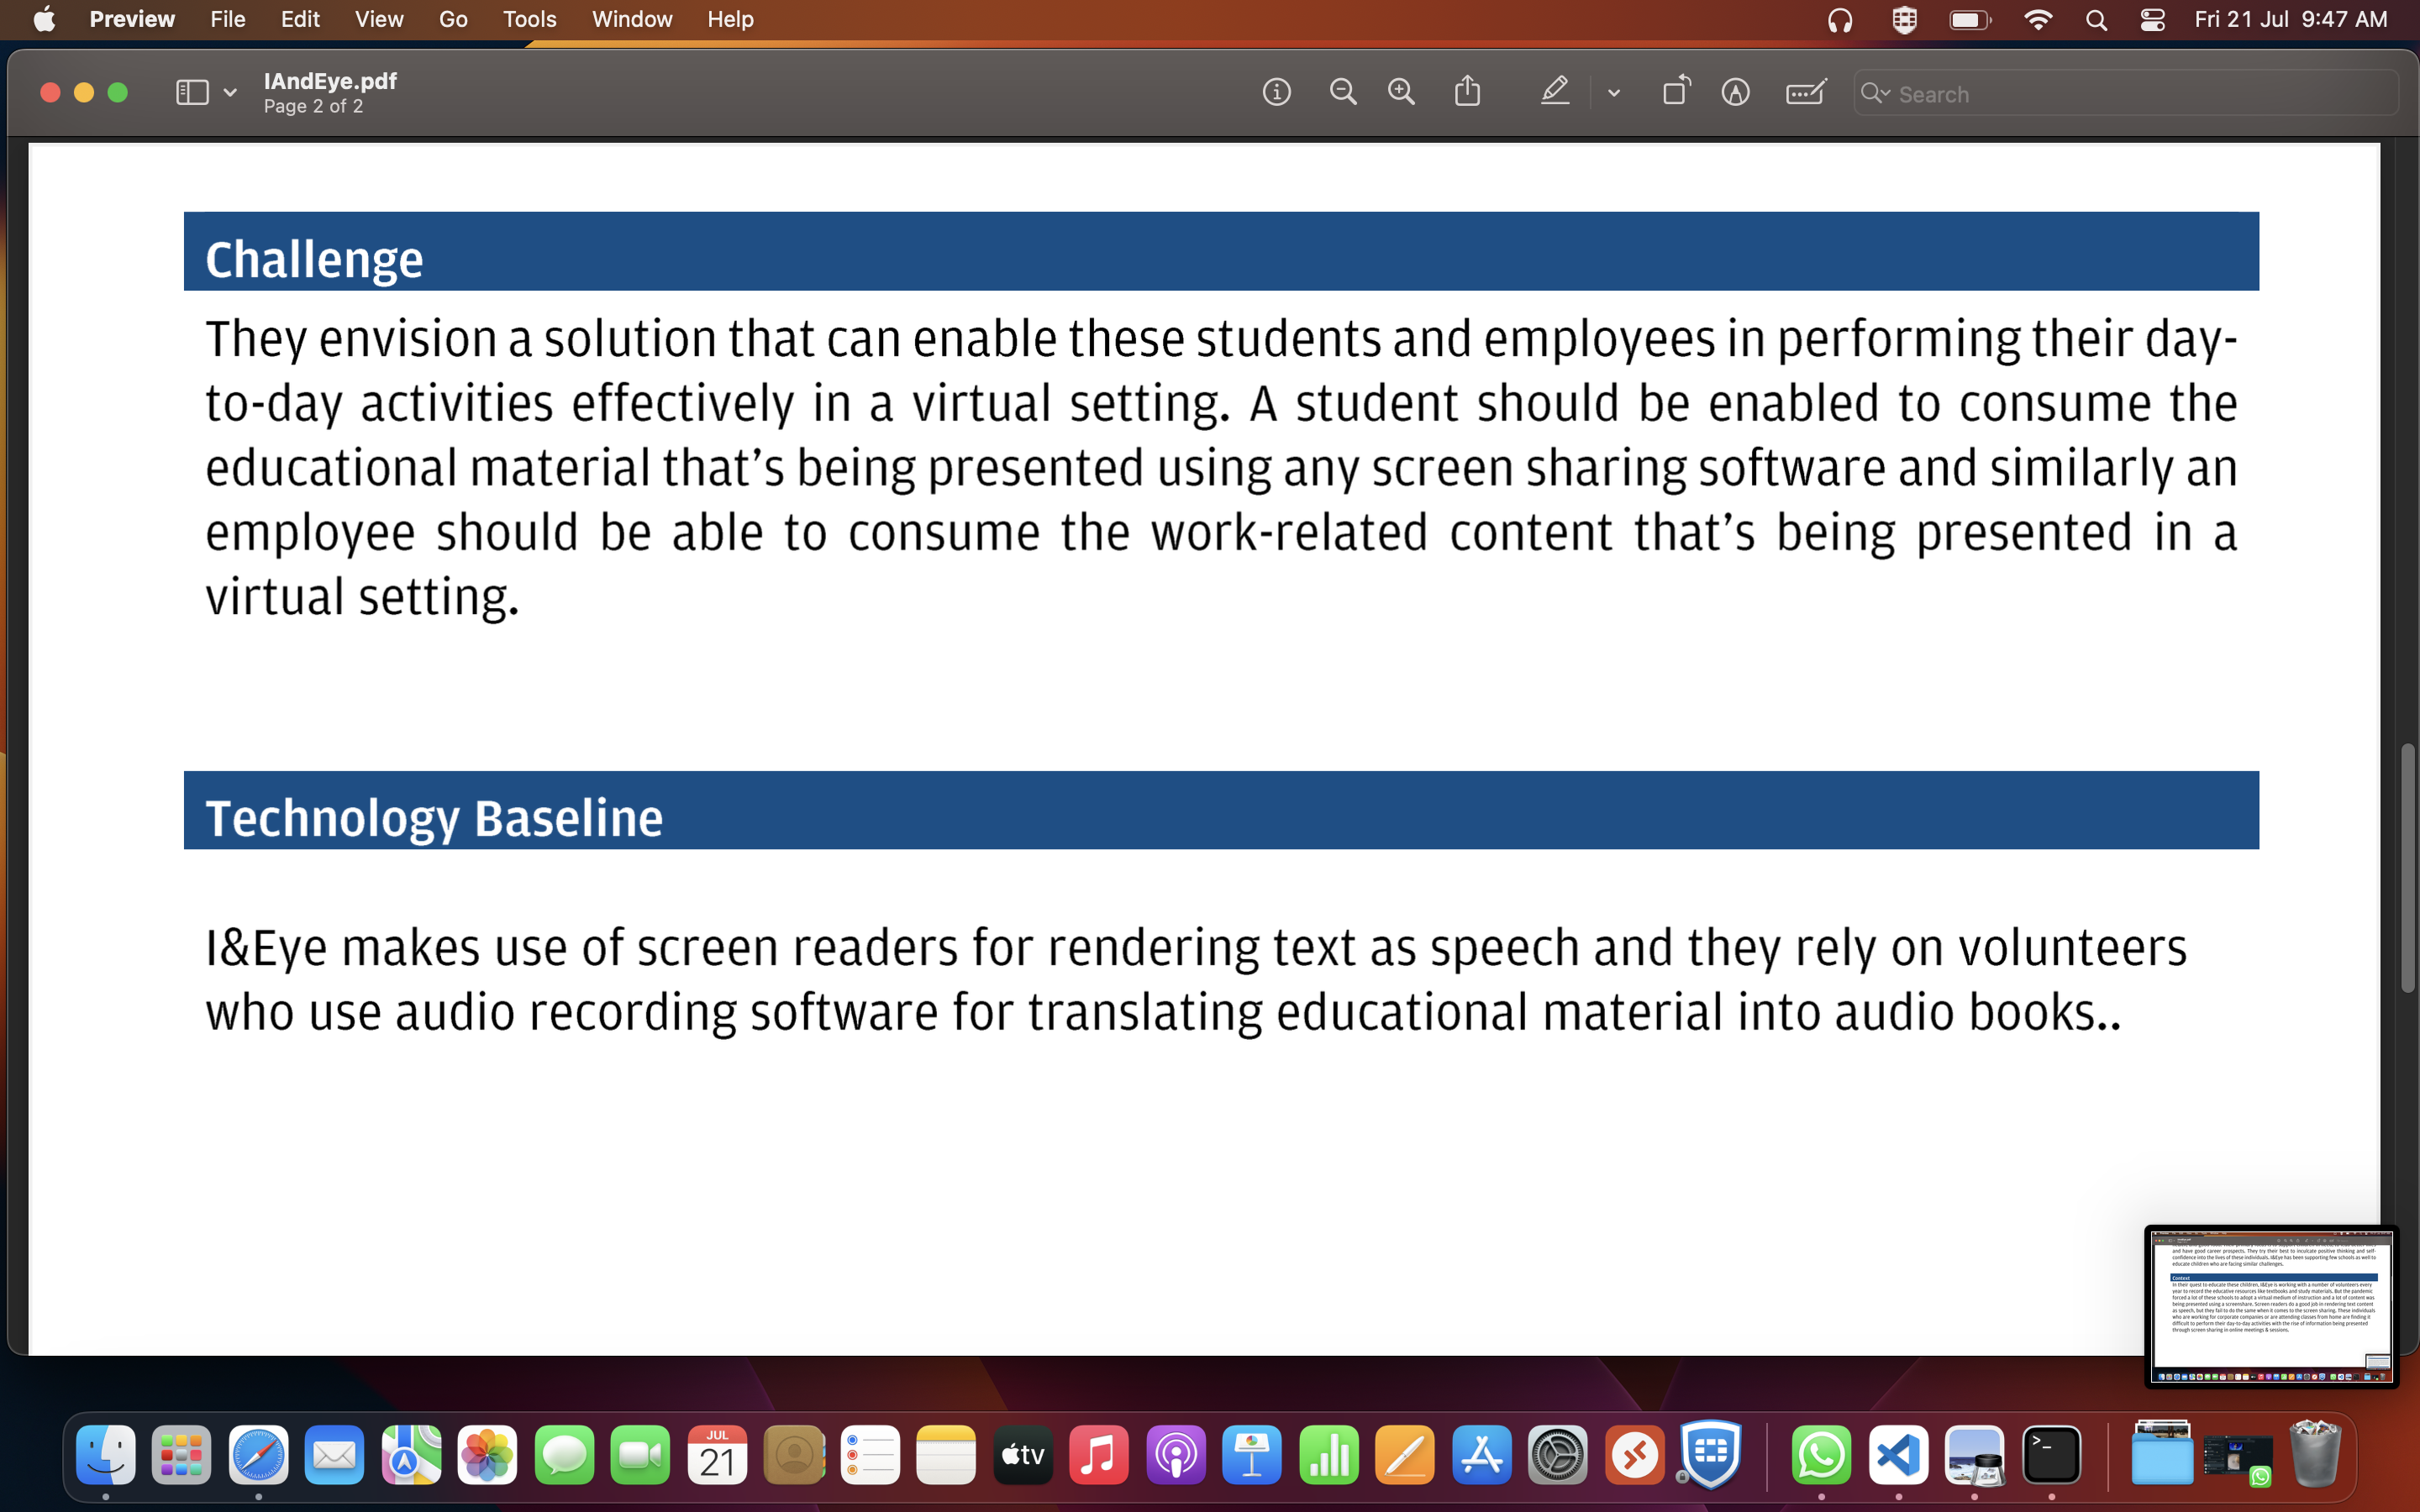Paragraph: (206, 301, 2256, 627), (188, 918, 2209, 1042), (188, 786, 679, 847), (185, 219, 432, 294)
